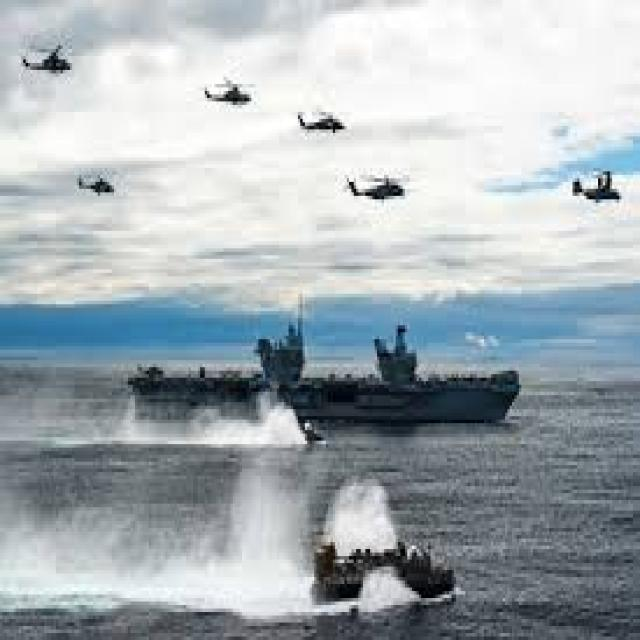navalvessels: (115, 304, 523, 436)
